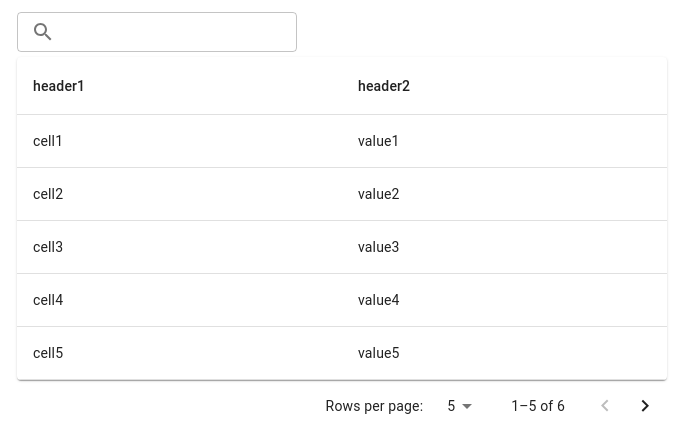
Scenario: Table › should paginate rows with controlled table state
This screenshot has width=685, height=443.
Expected: the text "cell1" is shown, [17,115,342,168]
Expected: the text "cell6" is not shown
Click the button named "Go to next page".
click(645, 406)  # box [625,386,665,426]
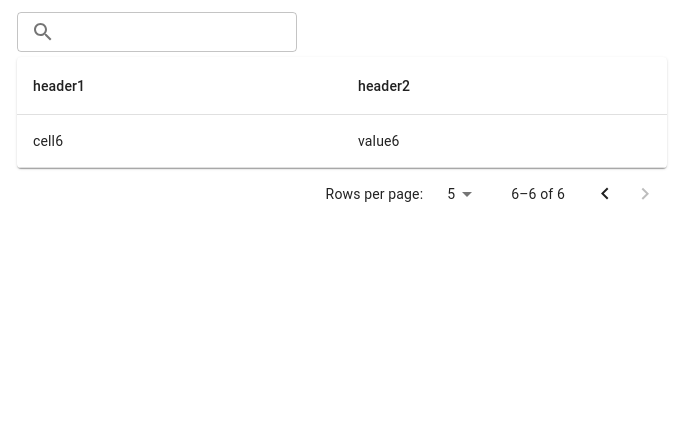
Expected: the text "cell1" is gone
Expected: the text "cell6" is shown, [17,115,342,168]
